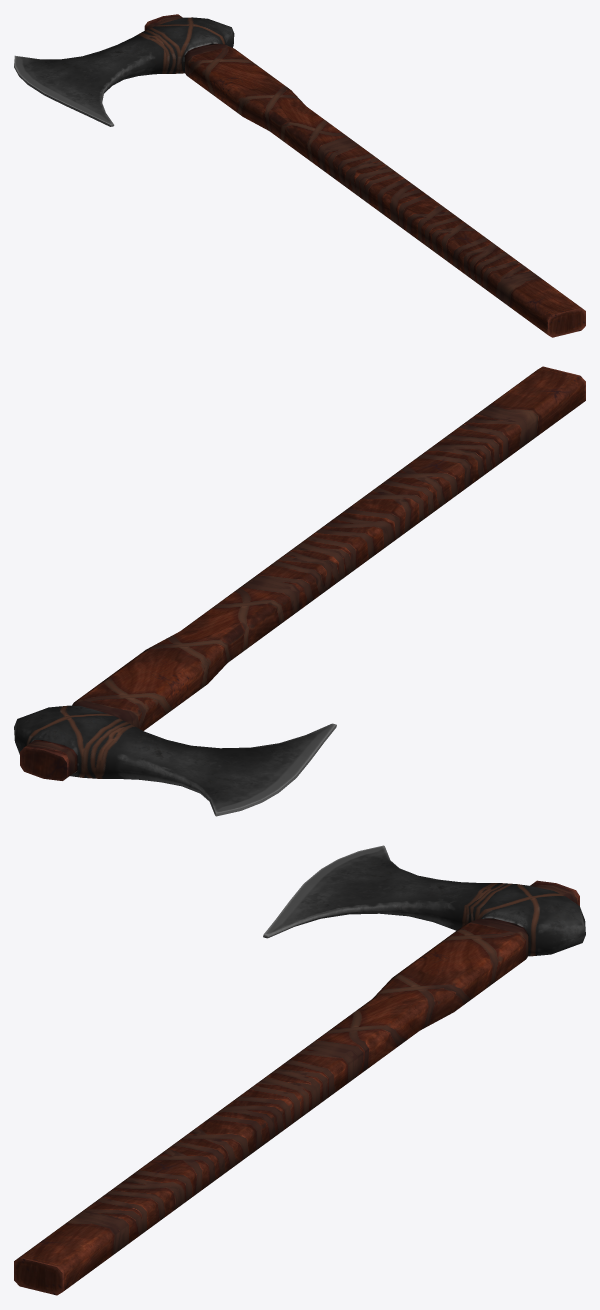
Rendered from Acx.obj.
3 renders of one model, top to bottom at view 1: azimuth 30°, elevation 25°; view 2: azimuth 150°, elevation 25°; view 3: azimuth 330°, elevation 25°, orthographic. The views are drawn at different scales.
Parts seen in each view (by area): view 1: Wood_LowPoly, Head_LowPoly; view 2: Wood_LowPoly, Head_LowPoly; view 3: Wood_LowPoly, Head_LowPoly.
Part boxes in pixels (x1,y1,x2,y2): Wood_LowPoly: (144,14,585,337); Head_LowPoly: (14,17,234,126); Wood_LowPoly: (20,366,585,780); Head_LowPoly: (14,705,336,816); Wood_LowPoly: (14,880,579,1295); Head_LowPoly: (263,845,585,956).
Bounding box in the file's own units: 0.479 × 0.0827 × 1.65.
2 materials, 2 textured.
